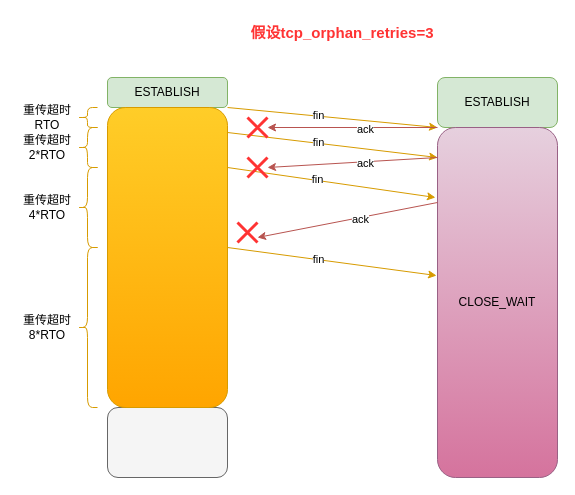
Some shapes in this 575 by 495 pixel diagram are drawn without their labels. The centre of each missing label's shape, as x and y in pixels:
CLOSE: pixel 167 442
FIN_WAIT_1: pixel 167 257
